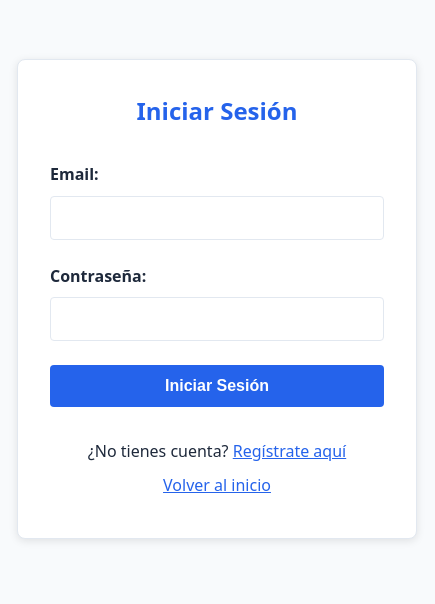
Test: Componente: Login › Muestra un mensaje de error si las credenciales son incorrectas
This screenshot has width=435, height=604.
Type "usuario_malo@test.com" into the field labelled "Email:" at {"x": 217, "y": 218}, box [50,196,384,240]
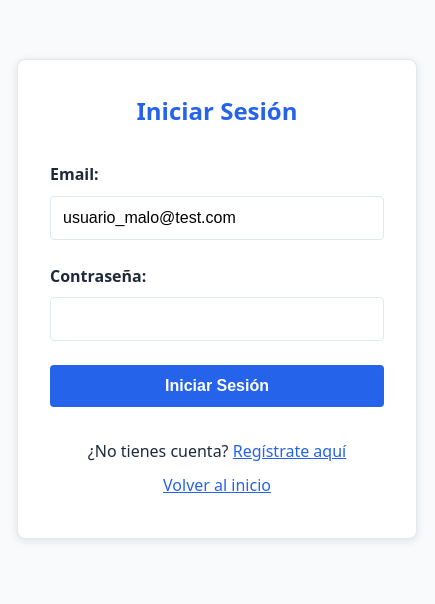
Type "password_incorrecta" into the password field labelled "Contraseña:" at {"x": 217, "y": 319}, box [50,297,384,341]
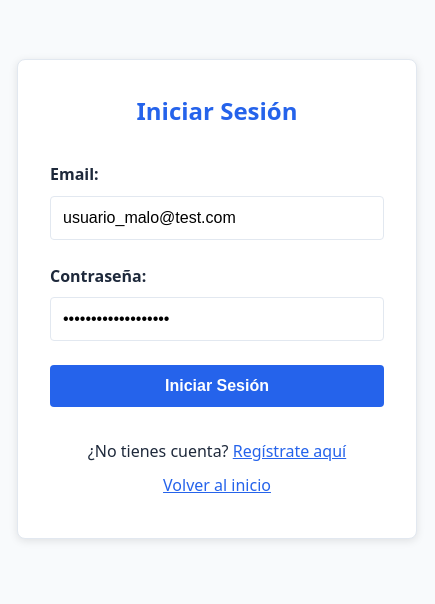
Click the button "Iniciar Sesión" at {"x": 217, "y": 386}, box [50,365,384,407]
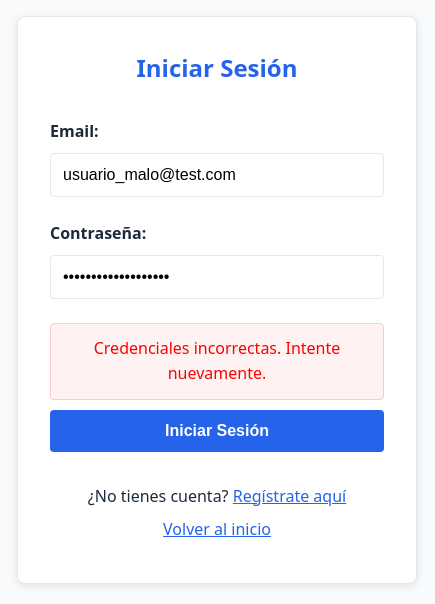
Expected: the text "Credenciales incorrectas. Intente nuevamente." is shown, [50,323,384,400]
